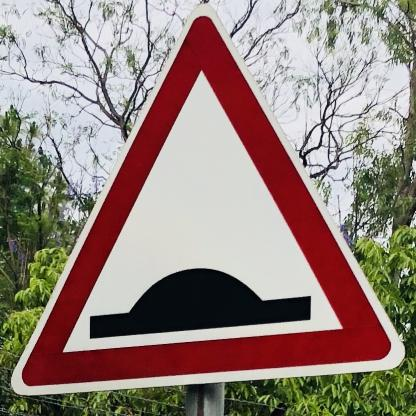Speed Breaker Ahead: (7, 2, 408, 396)
